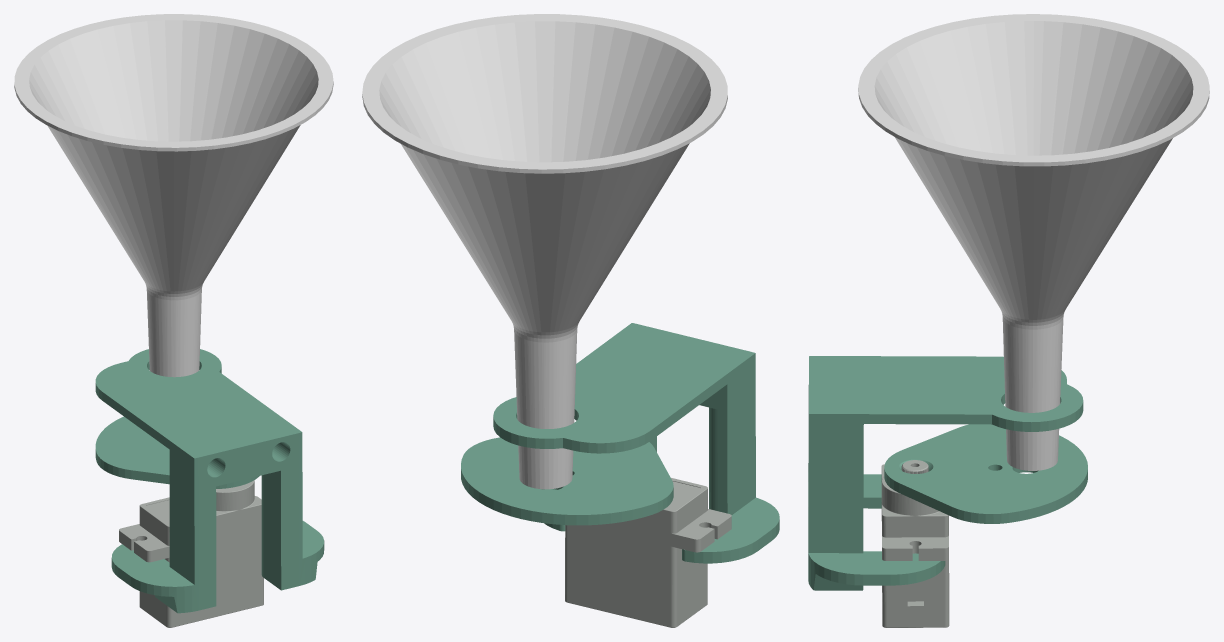
File: dispensingass.glb
3 renders of one model, left to right at view 1: azimuth 30°, elevation 25°; view 2: azimuth 150°, elevation 25°; view 3: azimuth 270°, elevation 25°, orthographic. The views are drawn at different scales.
Parts seen in each view (by area): view 1: funnel, stand, servoo, Block; view 2: funnel, stand, servoo, Block; view 3: funnel, stand, Block, servoo.
Boxes of the visible parts, box(x1,y1,x2,y2) form: funnel: box(14, 14, 333, 377); stand: box(95, 349, 324, 613); servoo: box(119, 480, 263, 627); Block: box(95, 416, 259, 488); funnel: box(362, 14, 727, 489); stand: box(493, 323, 779, 563); servoo: box(565, 478, 731, 627); Block: box(461, 437, 673, 525); funnel: box(858, 14, 1209, 470); stand: box(808, 356, 1083, 590); Block: box(884, 424, 1087, 523); servoo: box(881, 460, 949, 627).
Size of the model in its own units: 63.94 by 106 by 73.09.
